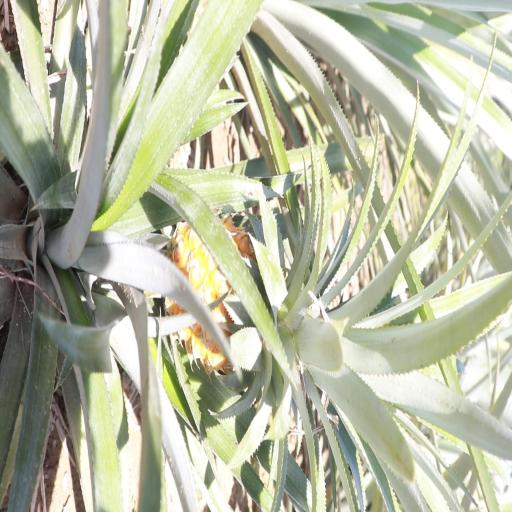Pineapple - v8 v1: (171, 210, 406, 376)
